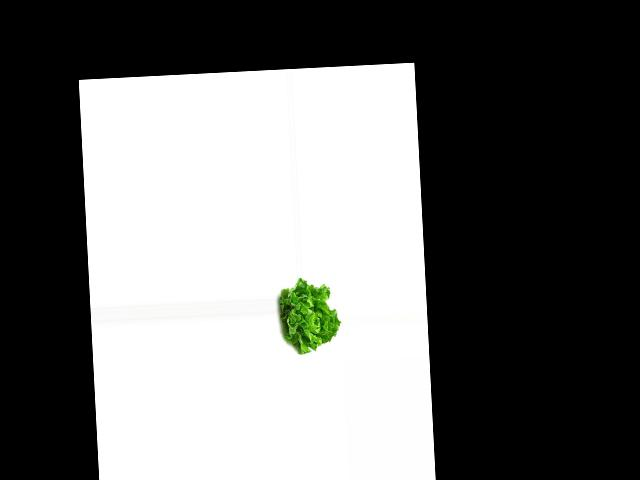lettuce: (276, 277, 341, 353)
